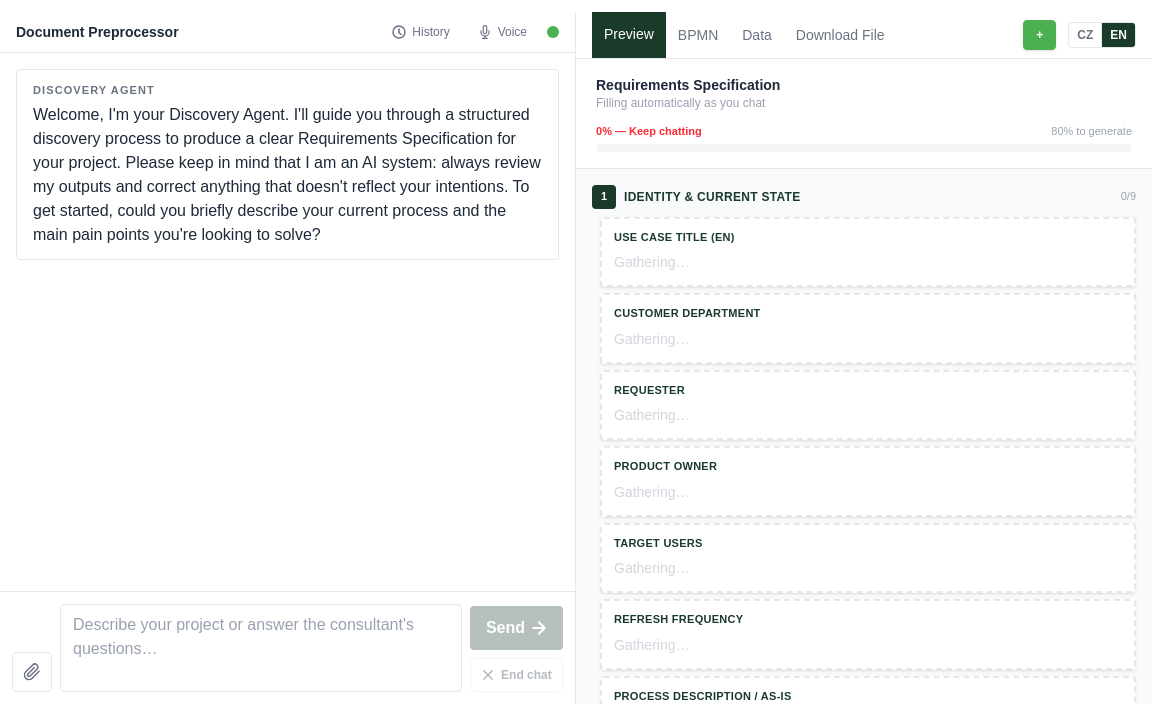
ChatPage — RS live template › shows an AI suggestion after a turn when extractContext returns data
This screenshot has width=1152, height=704.
In the text box with placeholder "Describe your project or answer the consultant's questions…": (261,648) [60,604,462,692], type "We use spreadsheets today."
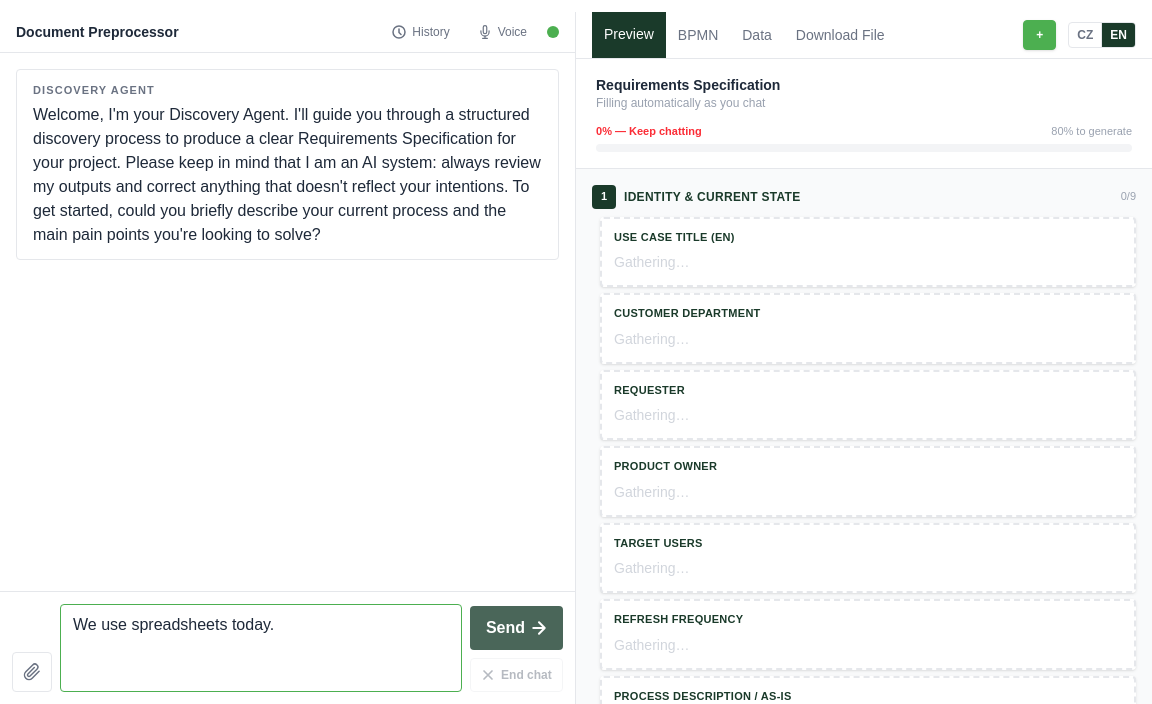
Click the button "Send": (516,628) [470,606,563,650]
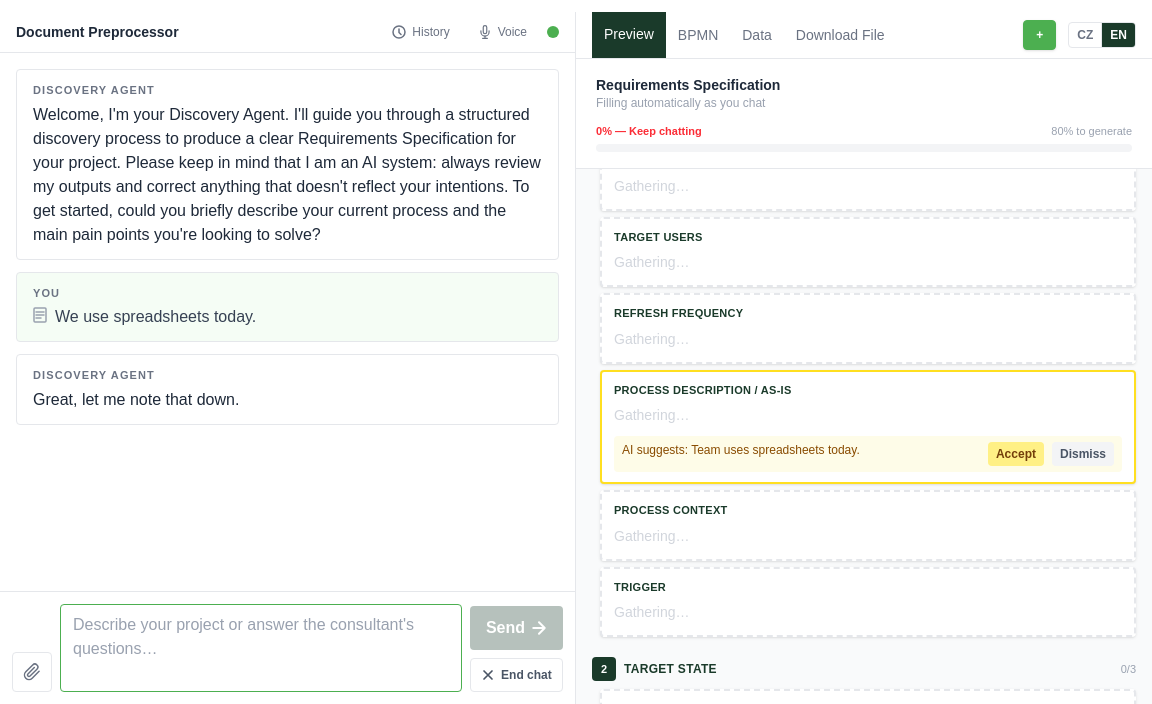
Expected: the text "AI suggests: Team uses spreadsheets today." is shown, [622,443,860,457]
